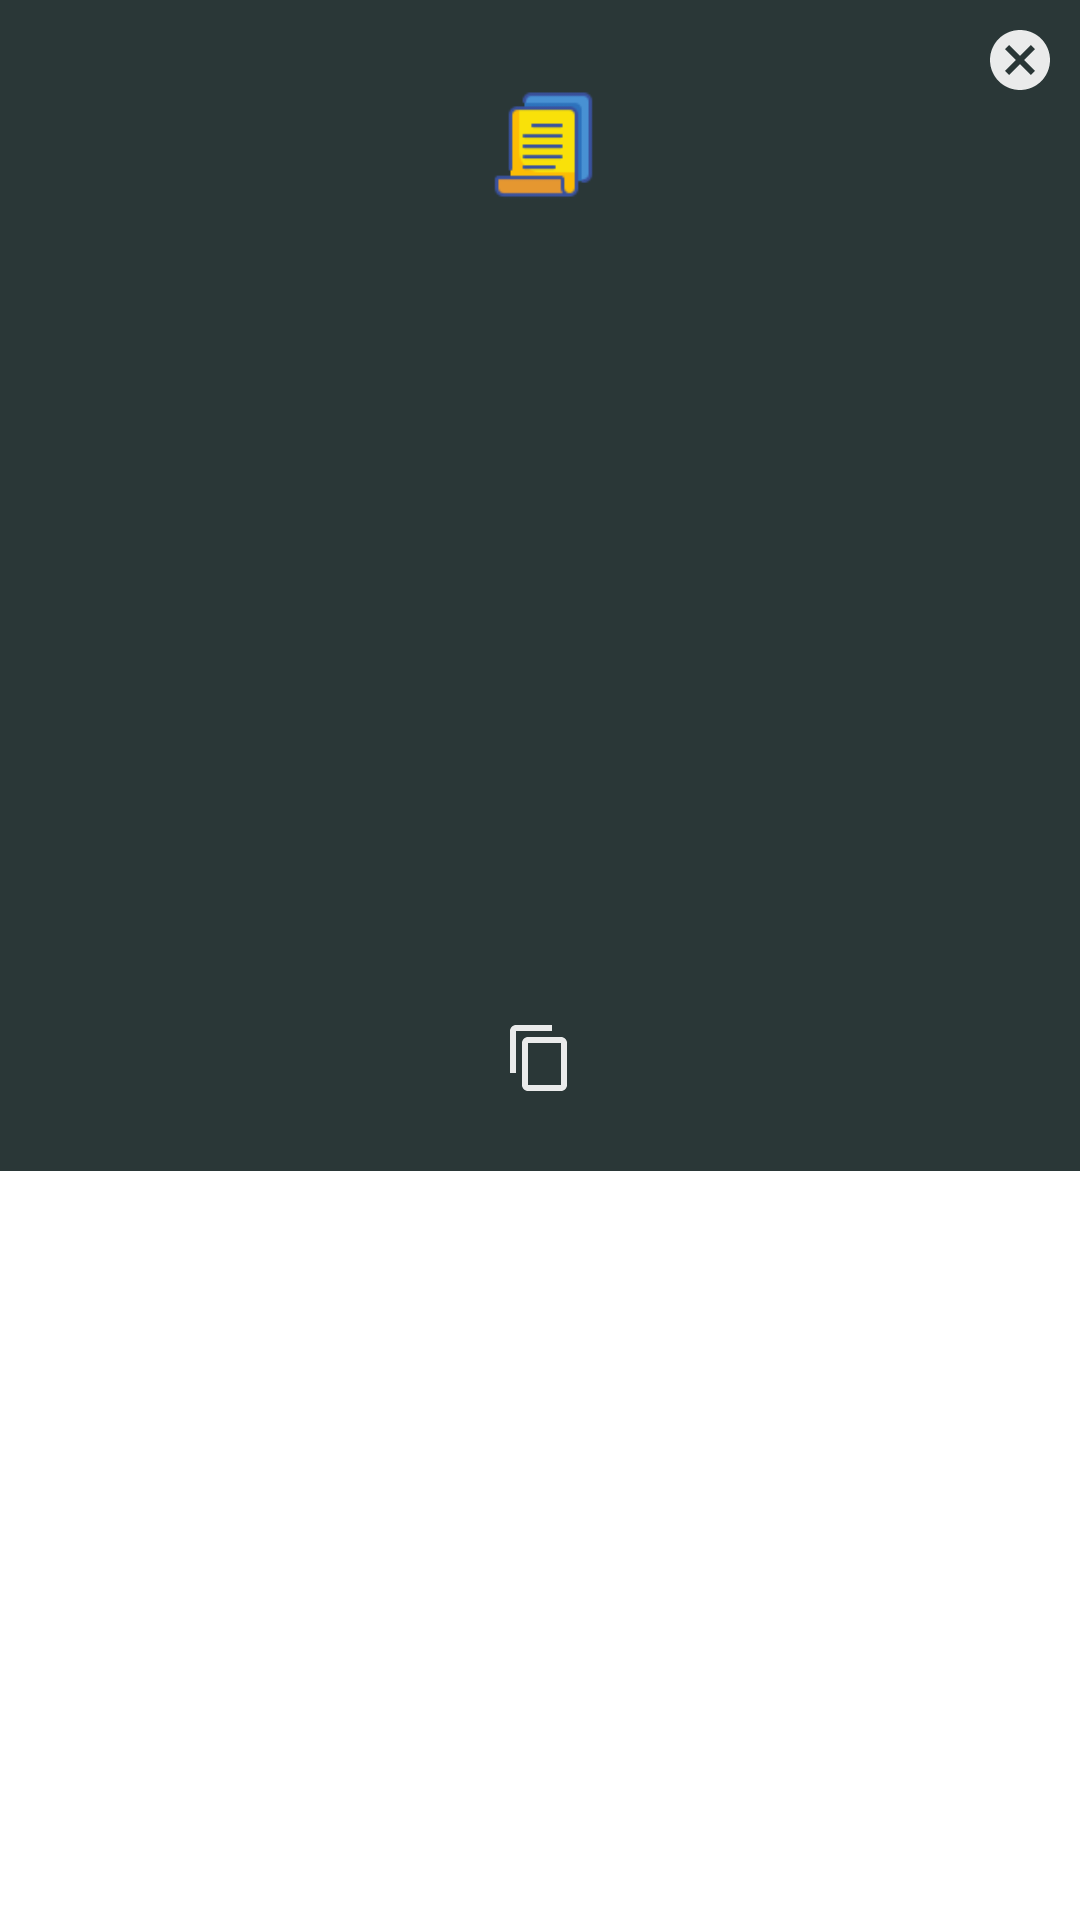

Screen size 1080px×1920px. Icon name, then its box in pixels as (x1, y1, x2, y2):
cancel: (990, 30, 1050, 90)
text documents: (494, 92, 593, 197)
